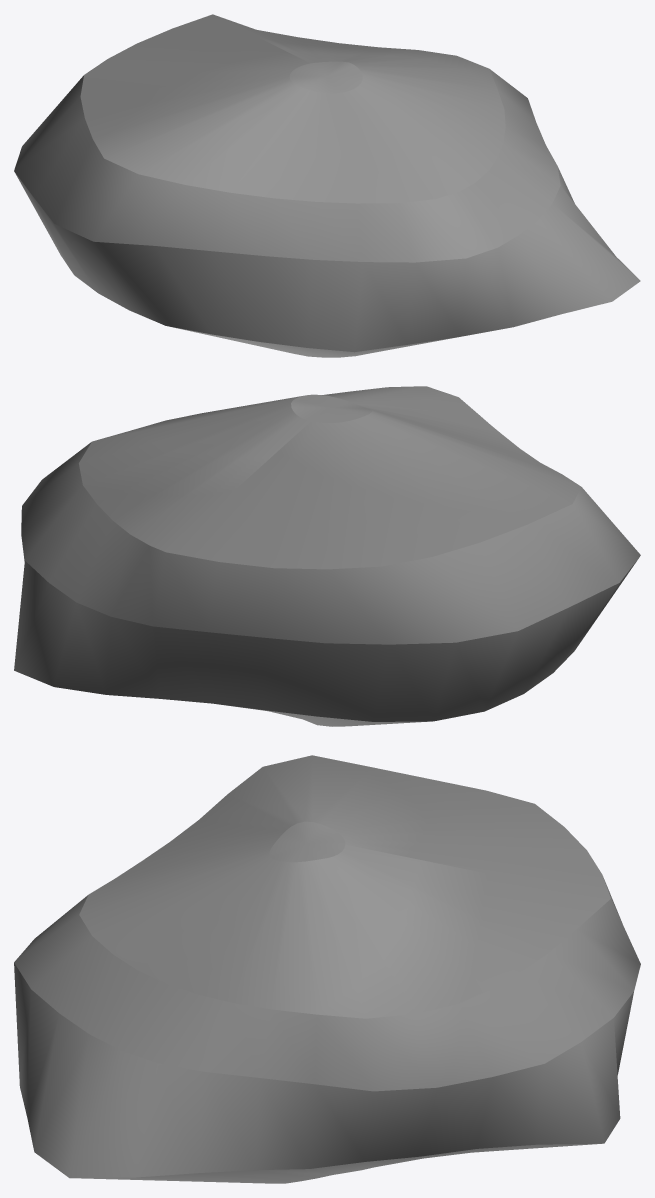
File: Small Stone1.fbx
The picture shows the model from 3 angles, top to bottom: view 1: azimuth 30°, elevation 25°; view 2: azimuth 150°, elevation 25°; view 3: azimuth 270°, elevation 25°; orthographic projection. The views are drawn at different scales.
Visible parts, largest first — view 1: SmallStone1; view 2: SmallStone1; view 3: SmallStone1.
Boxes of the visible parts, bbox=[...] form: SmallStone1: bbox=[14, 14, 640, 357]; SmallStone1: bbox=[14, 386, 640, 726]; SmallStone1: bbox=[14, 755, 640, 1183].
Bounding box in the file's own units: 1.78 × 0.9101 × 1.67.
1 material, 1 textured.
